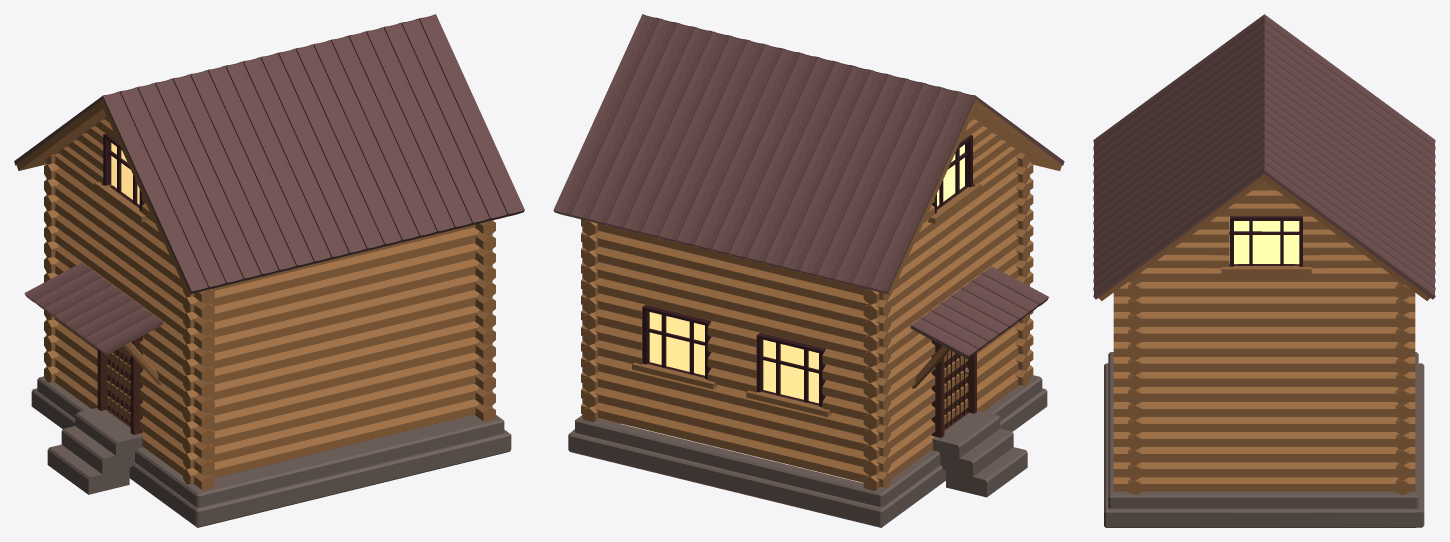
The model's file is house_wood_2f_1x1.glb.
The picture shows the model from 3 angles, left to right: view 1: azimuth 30°, elevation 25°; view 2: azimuth 150°, elevation 25°; view 3: azimuth 270°, elevation 25°; orthographic projection. The views are drawn at different scales.
Visible parts, largest first — view 1: w2F1to1; view 2: w2F1to1; view 3: w2F1to1.
Part boxes in pixels (x1,y1,x2,y2): w2F1to1: [14, 14, 524, 527]; w2F1to1: [553, 14, 1064, 527]; w2F1to1: [1093, 14, 1435, 527].
Bounding box in the file's own units: 8.94 × 8.75 × 7.46.
